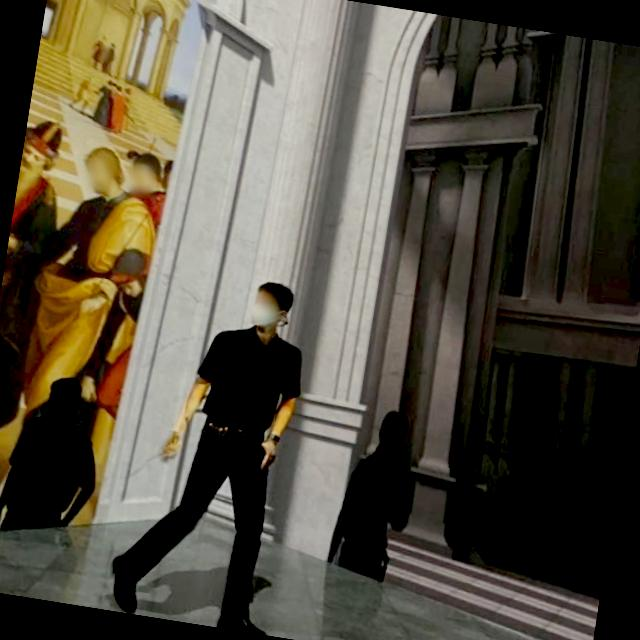denimpants: (112, 409, 280, 623)
shortsleeve: (192, 324, 308, 436)
